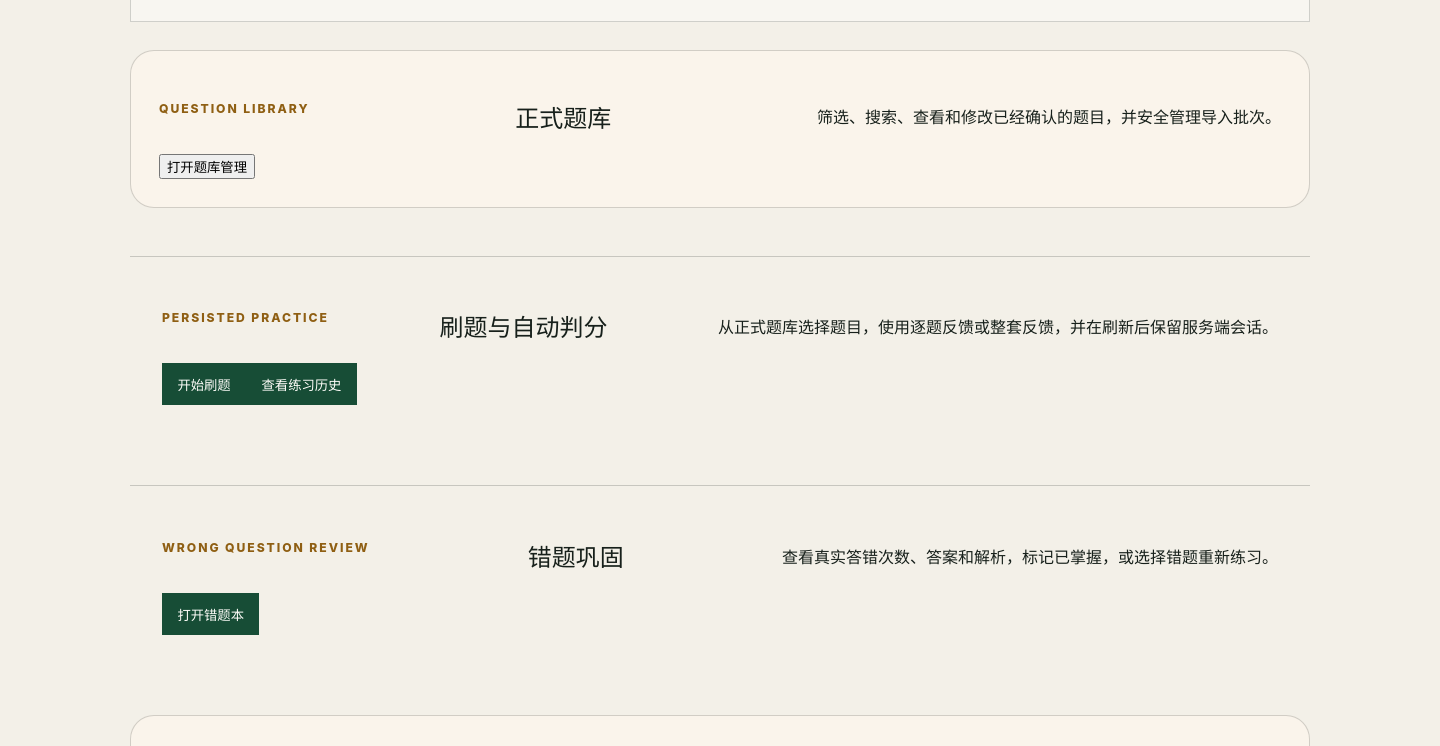
应用壳 › 在刷题工作区已打开时仍能从历史切换到另一个服务端会话
(page scrolled)
Step 1. Click the button "开始刷题" → {"x": 204, "y": 384}, box [162,363,246,405]
(page scrolled)
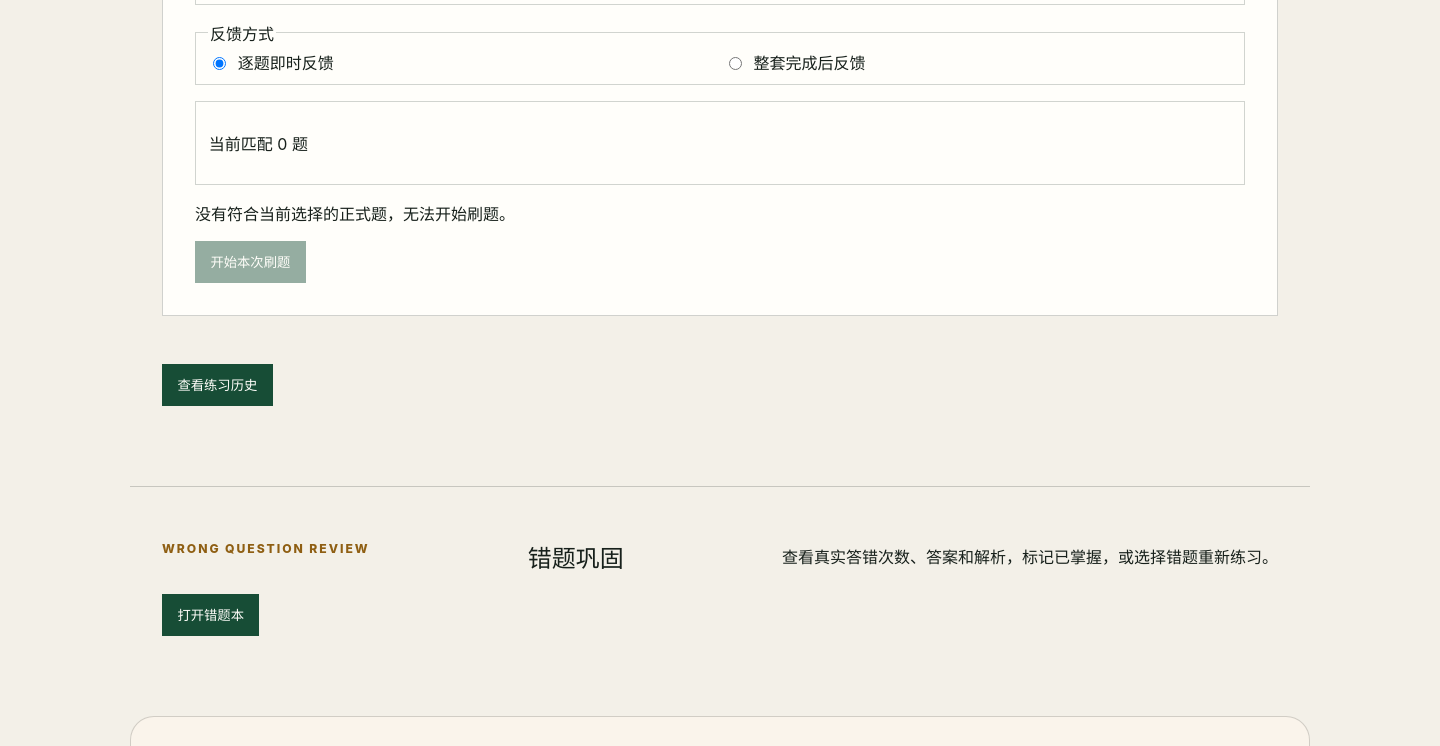
Step 2. Click the button "查看练习历史" → {"x": 217, "y": 385}, box [162,364,273,406]
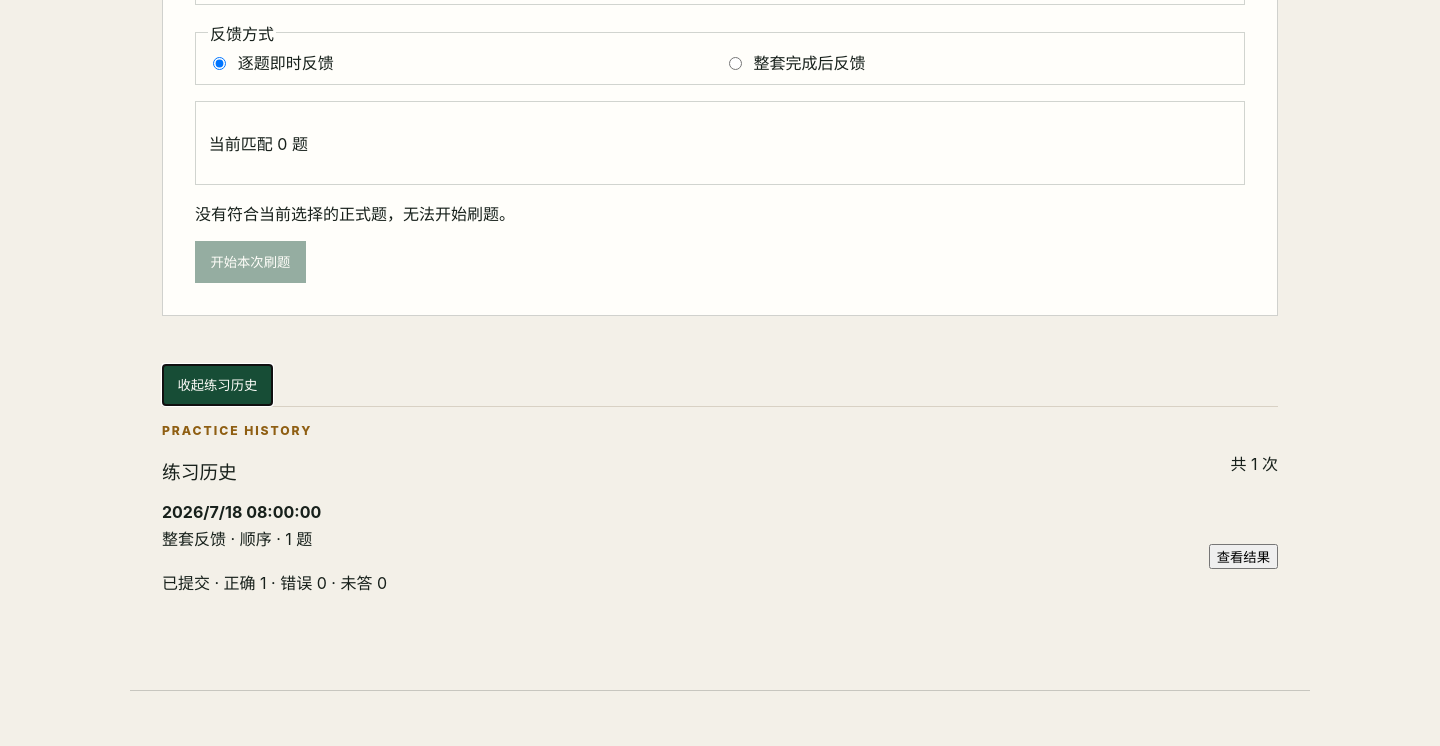
Step 3. Click the button "查看结果" → {"x": 1243, "y": 556}, box [1209,544,1278,569]
(page scrolled)
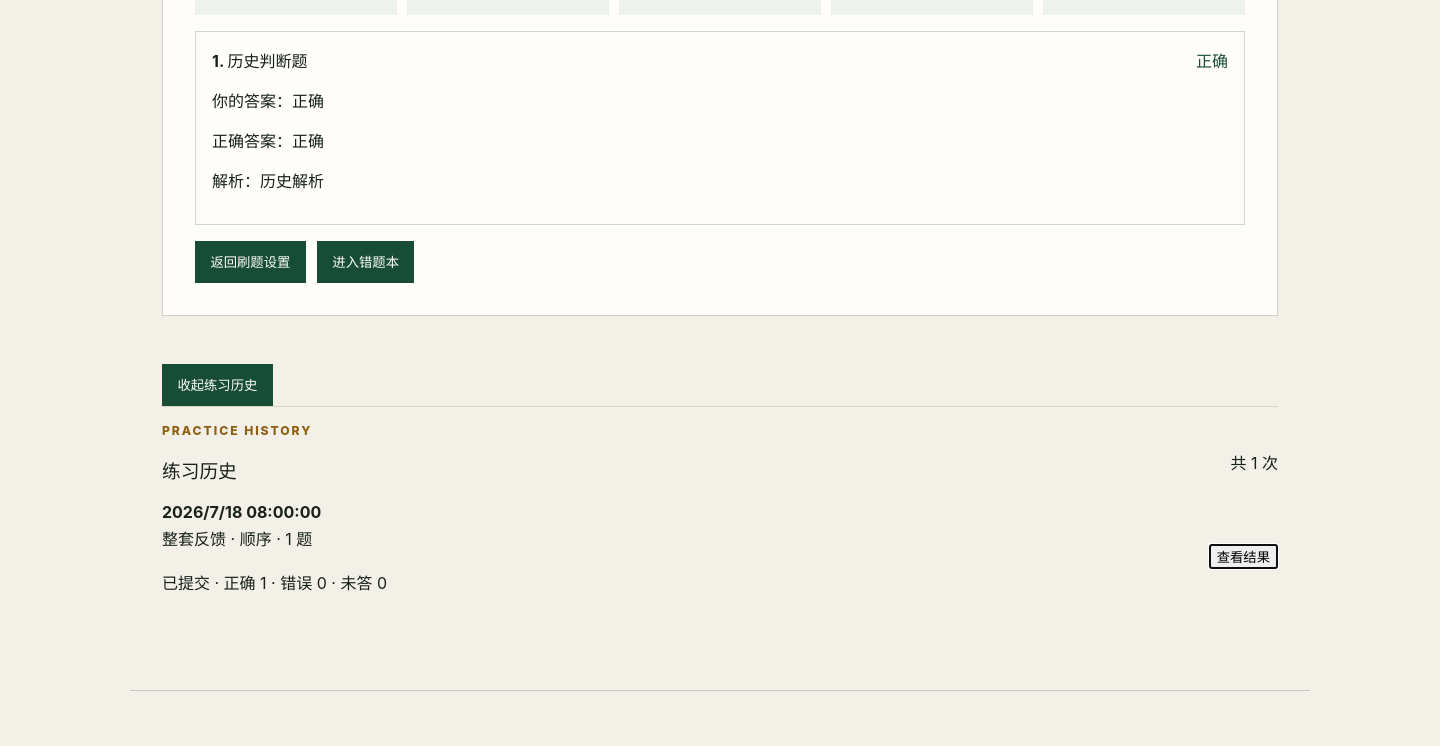
expect the text "1. 历史判断题" is shown: met, box [212,48,308,72]
